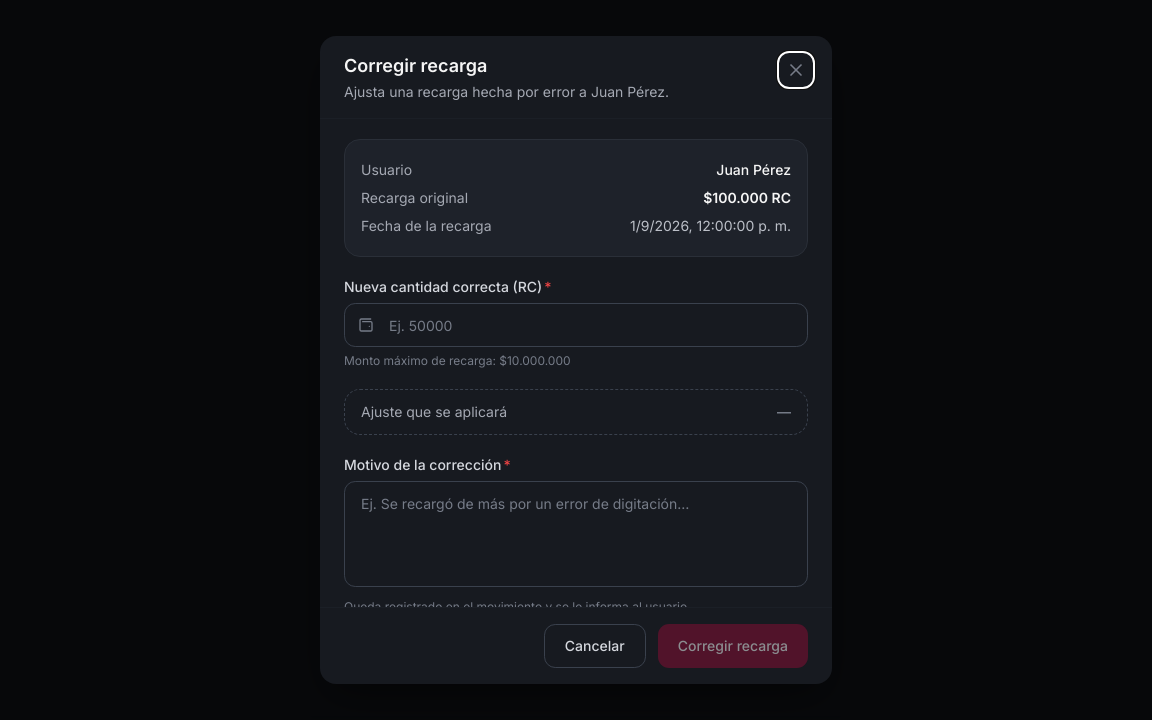
Test case: CorrectRechargeModal › Corregir está deshabilitado si la nueva cantidad es igual a la original
Type "Recarga por error" into the text box labelled "Motivo de la corrección*" at (576, 534), box [344,481,808,587]
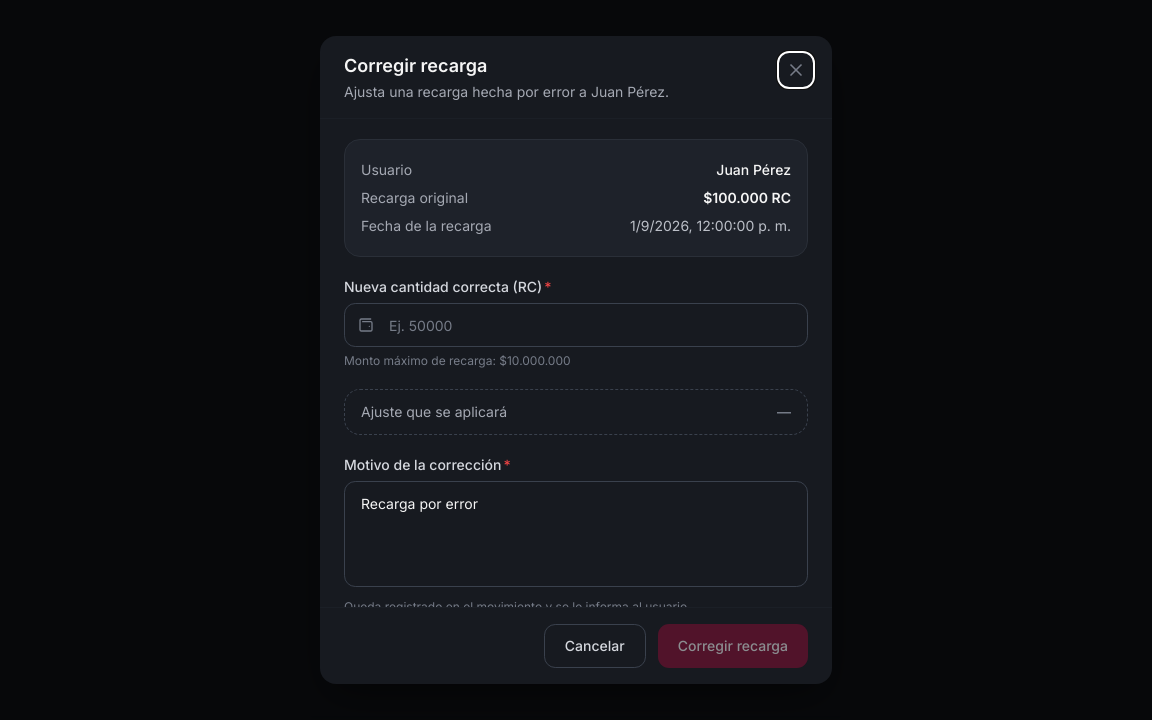
Type "100000" into the field labelled "Nueva cantidad correcta (RC)*" at (576, 325), box [344,303,808,347]
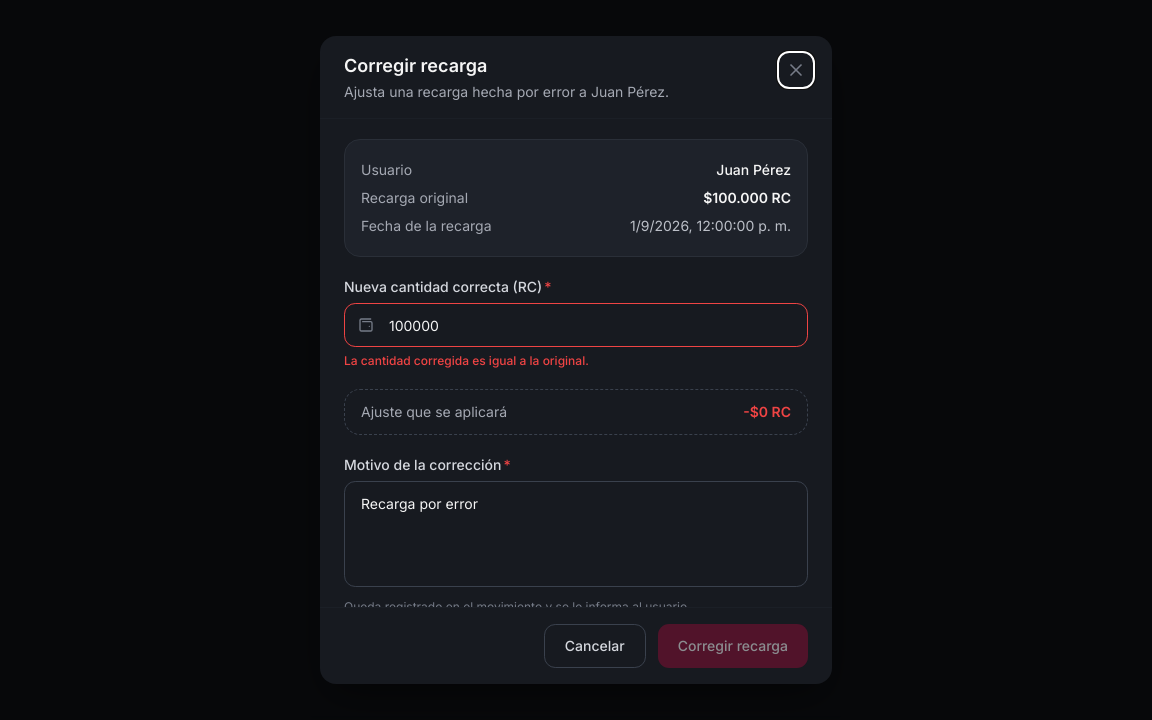
Check: the button "Corregir recarga" is disabled, box [658,624,808,668]
Check: the text "La cantidad corregida es igual a la original." is shown, box [344,353,589,368]
